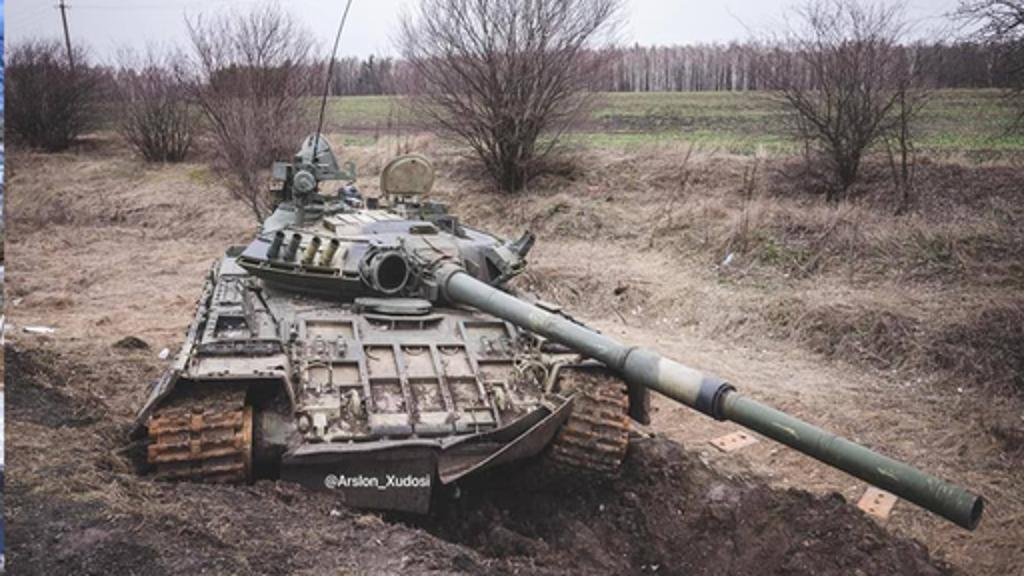TANK: (128, 152, 984, 560)
